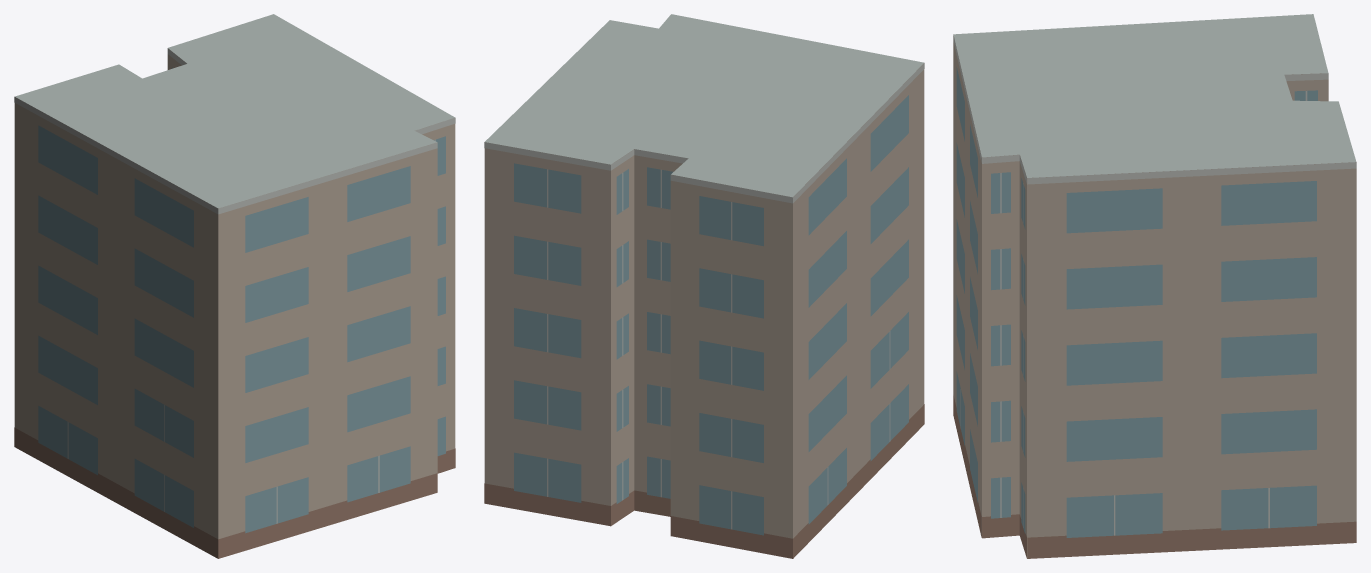
File: survey-upis-32738161.glb
The picture shows the model from 3 angles, left to right: view 1: azimuth 30°, elevation 25°; view 2: azimuth 150°, elevation 25°; view 3: azimuth 270°, elevation 25°; orthographic projection. The views are drawn at different scales.
Parts seen in each view (by area): view 1: survey-upis-32738161.tmp; view 2: survey-upis-32738161.tmp; view 3: survey-upis-32738161.tmp.
Part boxes in pixels (bbox=[...]): survey-upis-32738161.tmp: bbox=[14, 14, 455, 558]; survey-upis-32738161.tmp: bbox=[484, 14, 924, 558]; survey-upis-32738161.tmp: bbox=[953, 14, 1356, 558].
Size of the model in its own units: 13.22 by 14.3 by 13.73.
